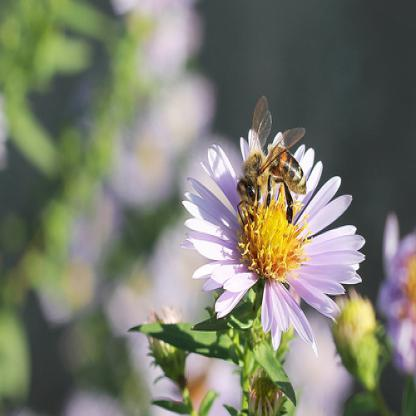ASTER: (150, 69, 368, 404)
